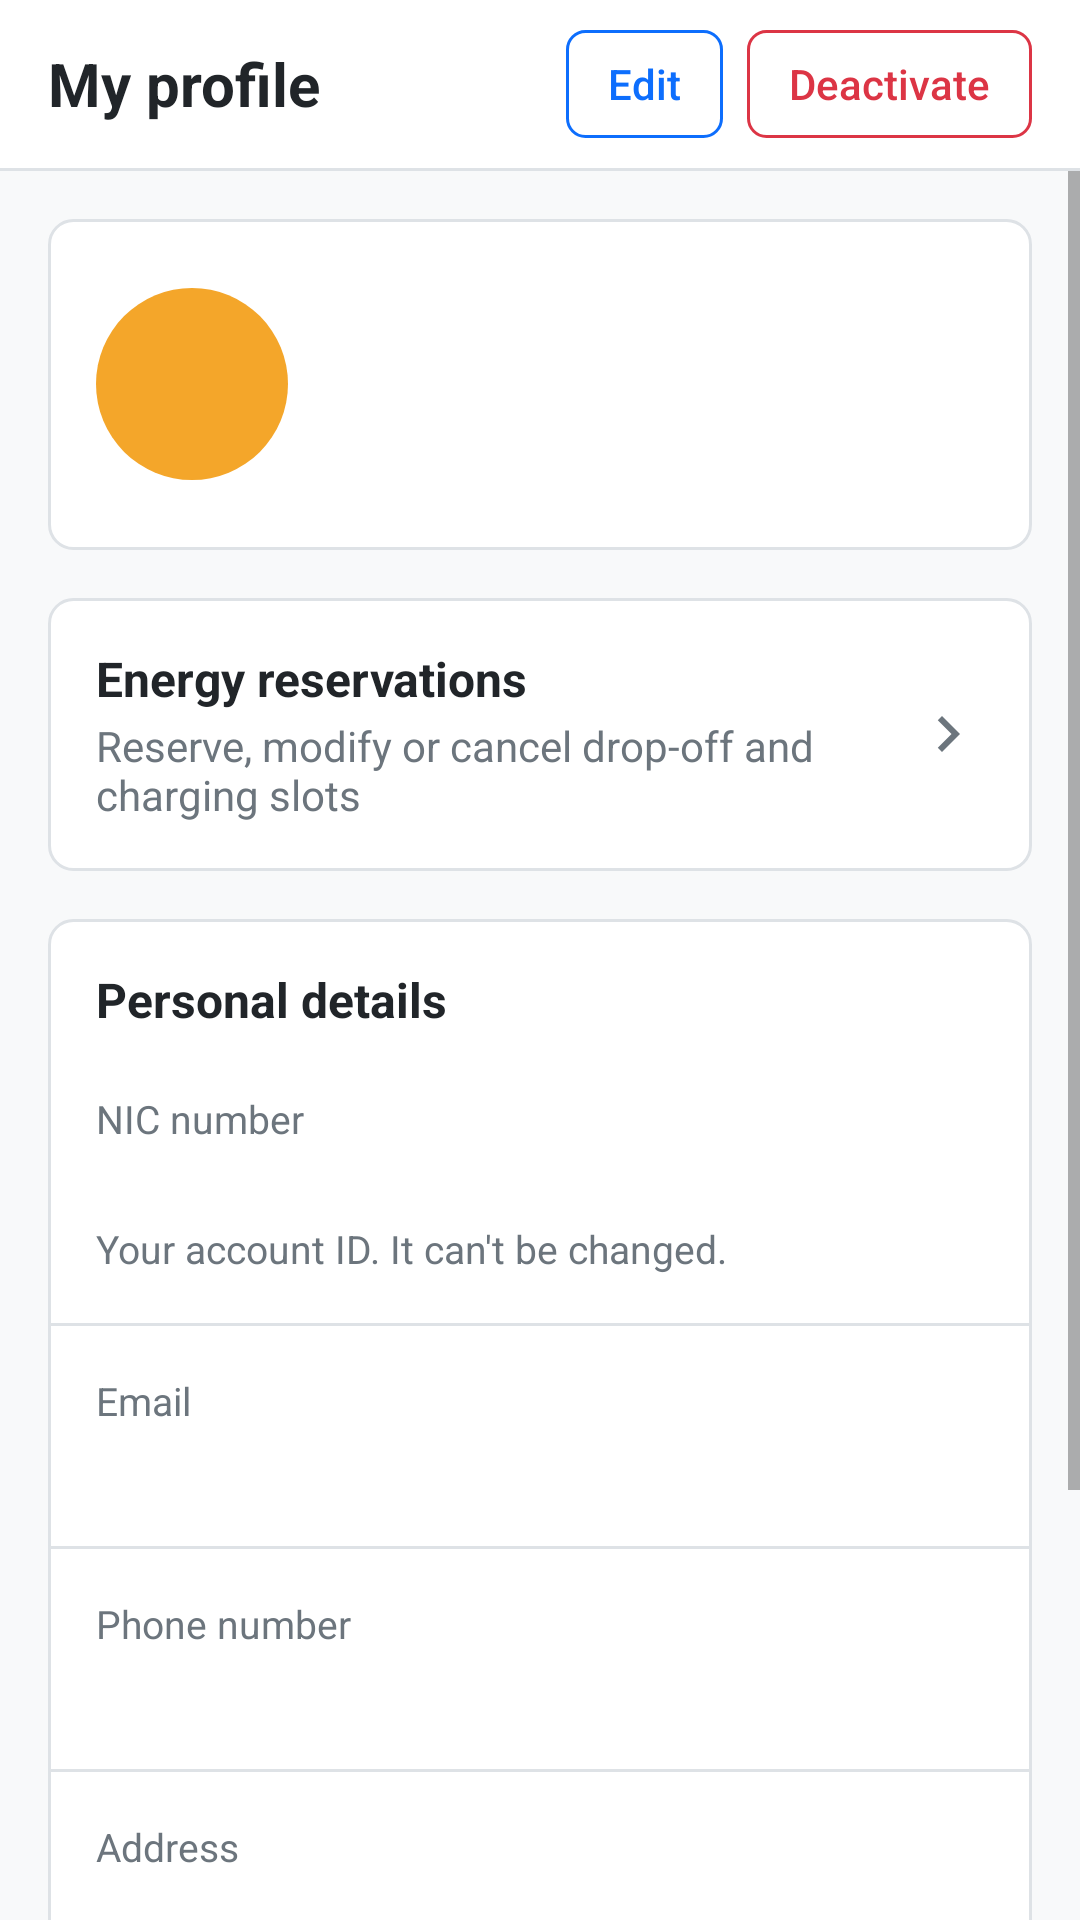

Icon bounding boxes for this 1080×1920 phone screenshot, format (x1, y1, x2, y2):
chevron right: (938, 716, 960, 752)
